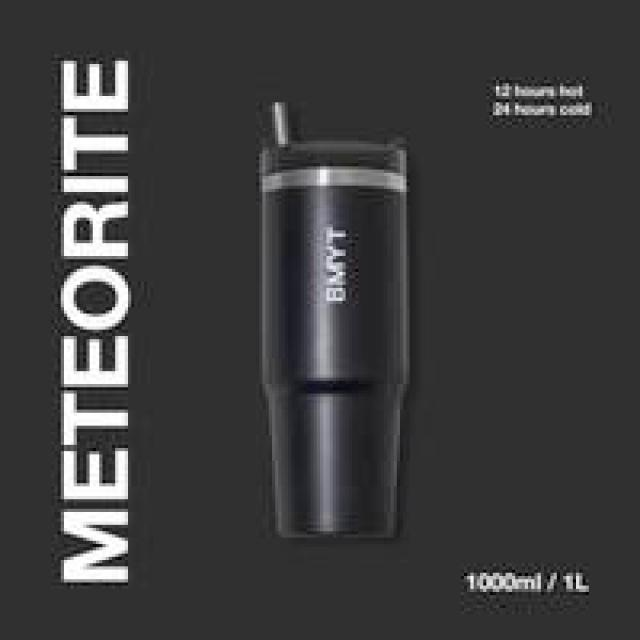bottle: (206, 61, 434, 573)
